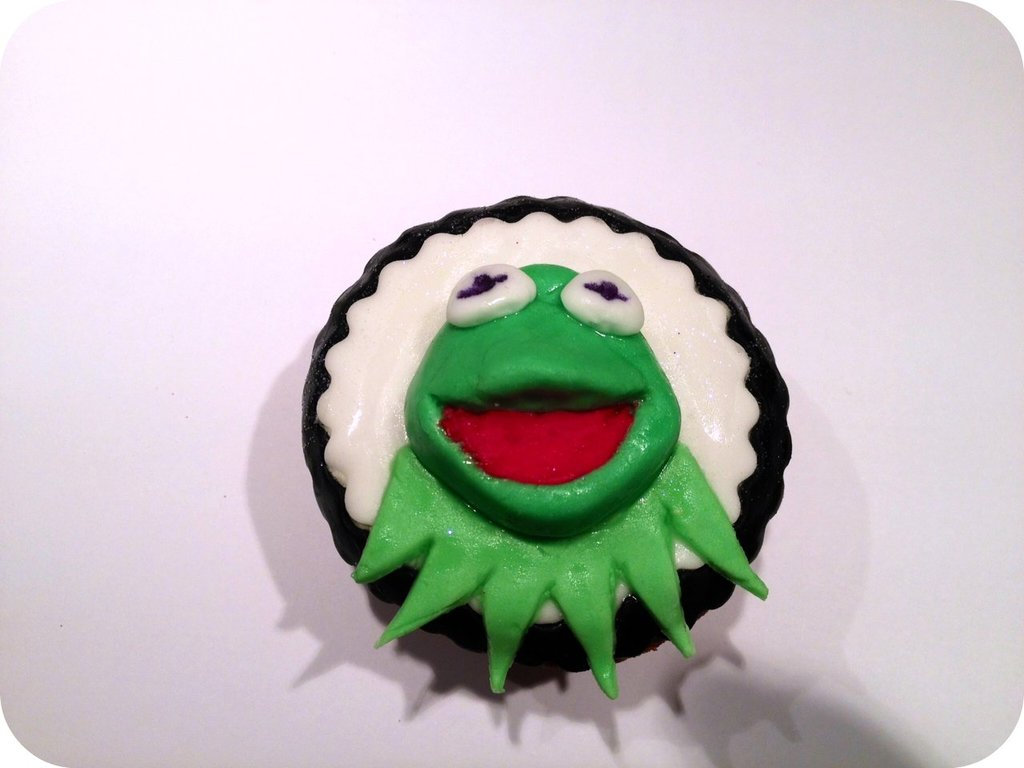cake: (298, 191, 791, 701)
